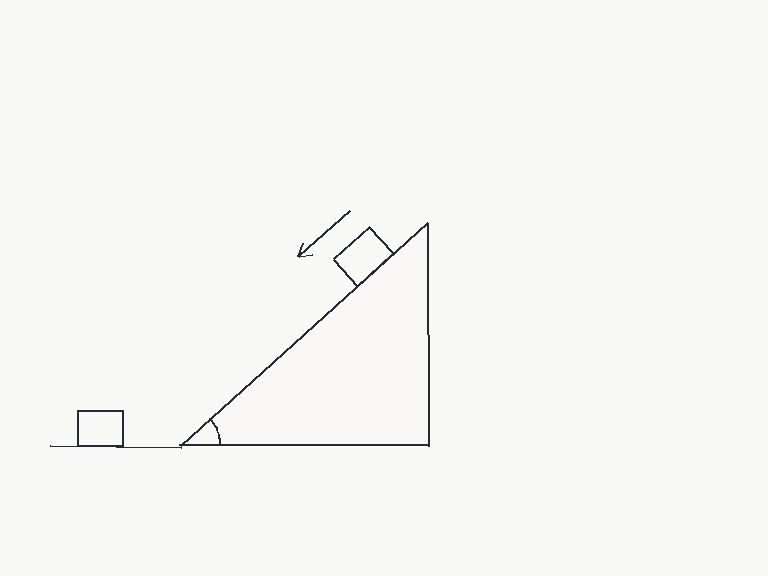block: (331, 225, 395, 288), (75, 409, 125, 447)
ramp: (178, 220, 429, 447)
